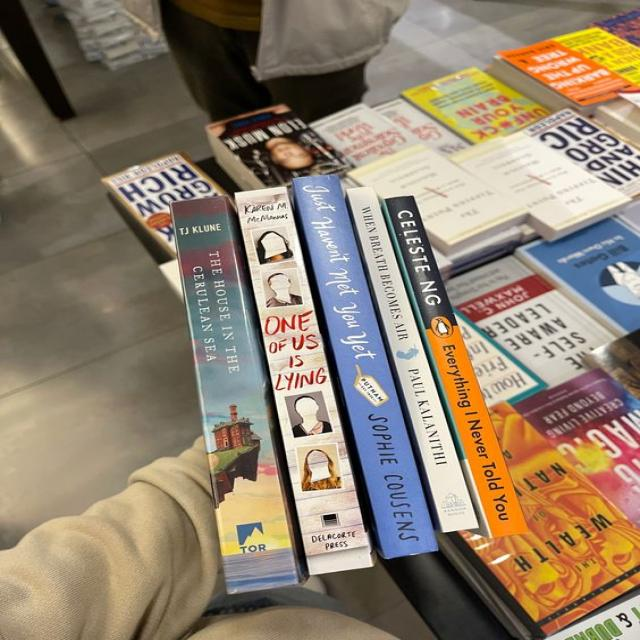book: (292, 175, 437, 557), (171, 197, 306, 593), (235, 186, 369, 569), (384, 196, 527, 537), (345, 189, 475, 529)
